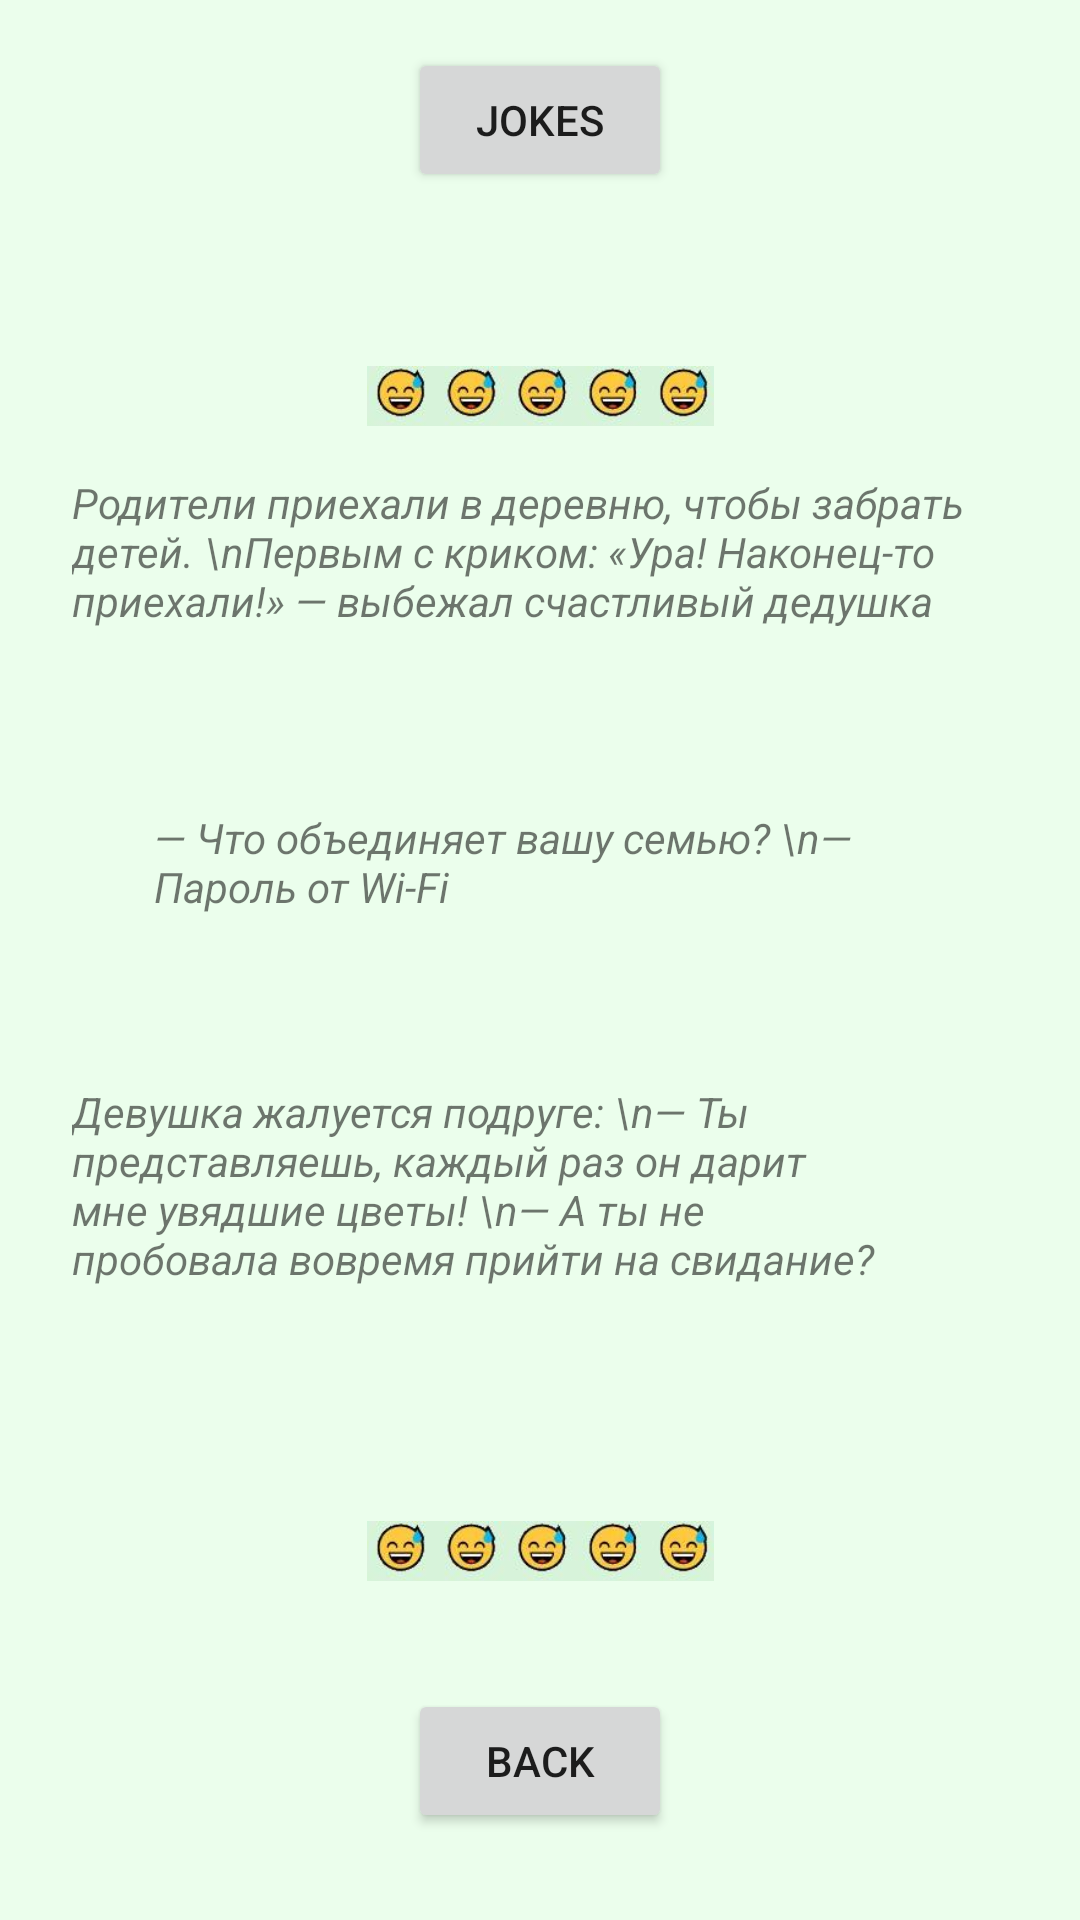

Where icons sit on this 1080px×1920px app screen, as (x1, y1, x2, y2):
smiles: (367, 366, 714, 425), (367, 1521, 714, 1580)
